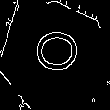O_W: (30, 36, 80, 79)
